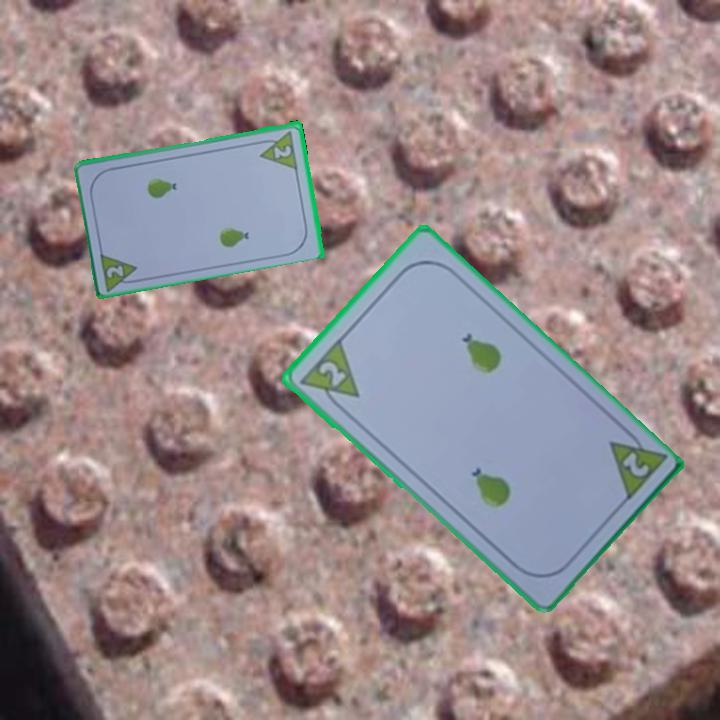2p: (295, 335, 362, 416), (96, 248, 143, 292), (255, 127, 301, 171), (617, 447, 652, 481)
